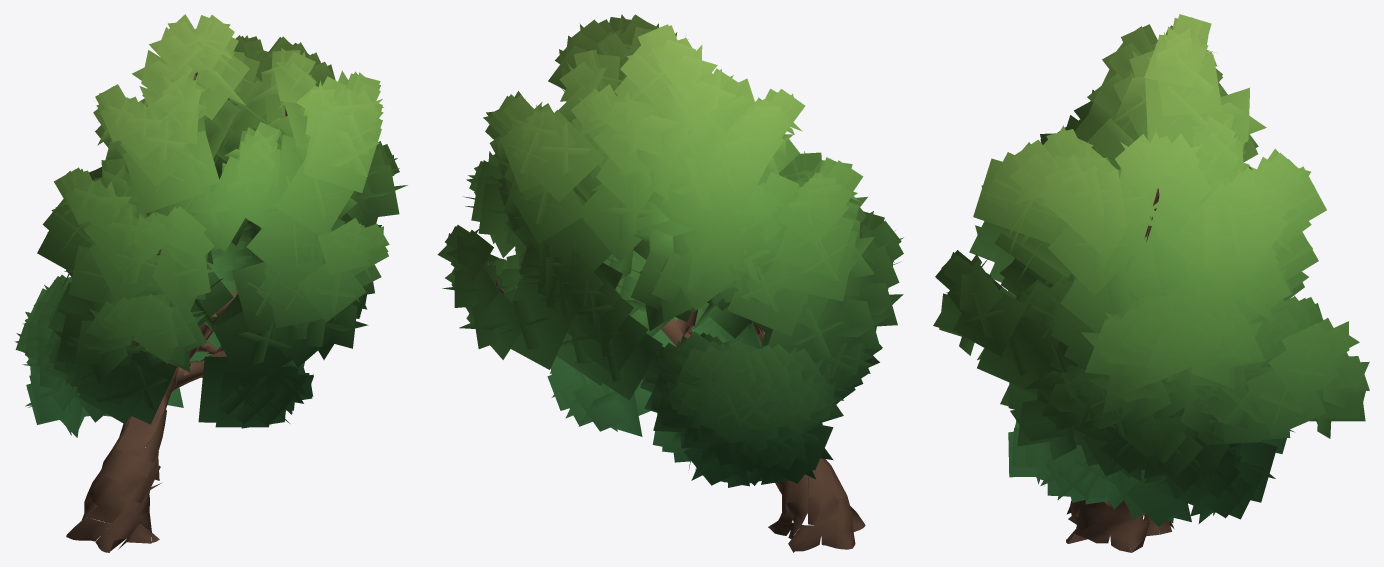
Rendered from q_tree_round_b.glb.
3 renders of one model, left to right at view 1: azimuth 30°, elevation 25°; view 2: azimuth 150°, elevation 25°; view 3: azimuth 270°, elevation 25°, orthographic. The views are drawn at different scales.
Visible parts, largest first — view 1: Leaves, Trunk; view 2: Leaves, Trunk; view 3: Leaves, Trunk.
Boxes of the visible parts, <box> form: Leaves: <box>14,14,407,437</box>; Trunk: <box>66,72,287,552</box>; Leaves: <box>437,14,903,487</box>; Trunk: <box>487,262,865,552</box>; Leaves: <box>933,14,1369,526</box>; Trunk: <box>1066,188,1174,552</box>.
Bounding box in the file's own units: 5.95 × 7.4 × 5.08.
